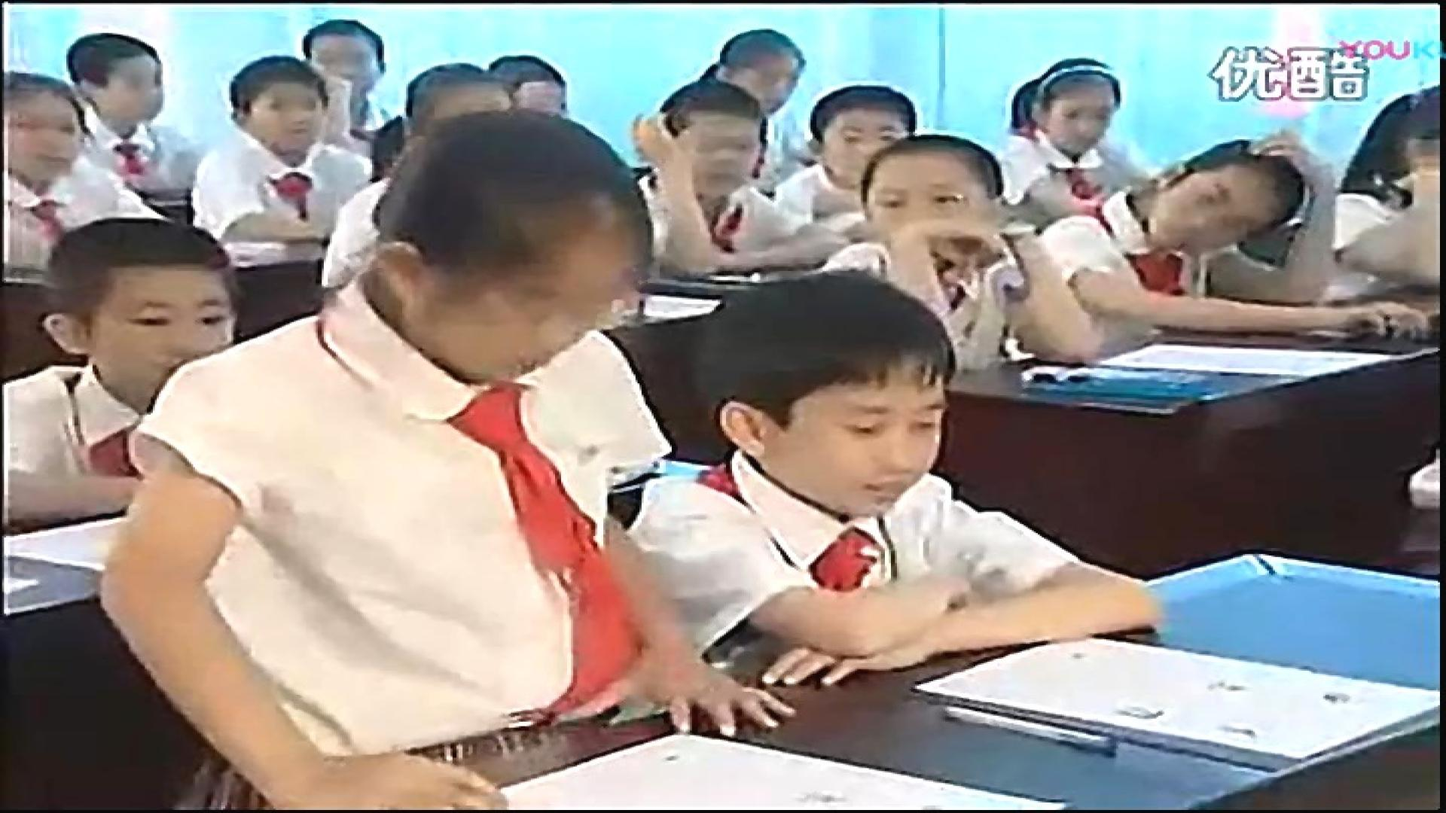Bend Over The Desk: (1111, 160, 1321, 324)
Look Around: (858, 145, 1017, 271)
Normal: (711, 276, 1118, 645)
Stand Up: (281, 140, 658, 770)
Wave: (645, 116, 712, 262)
